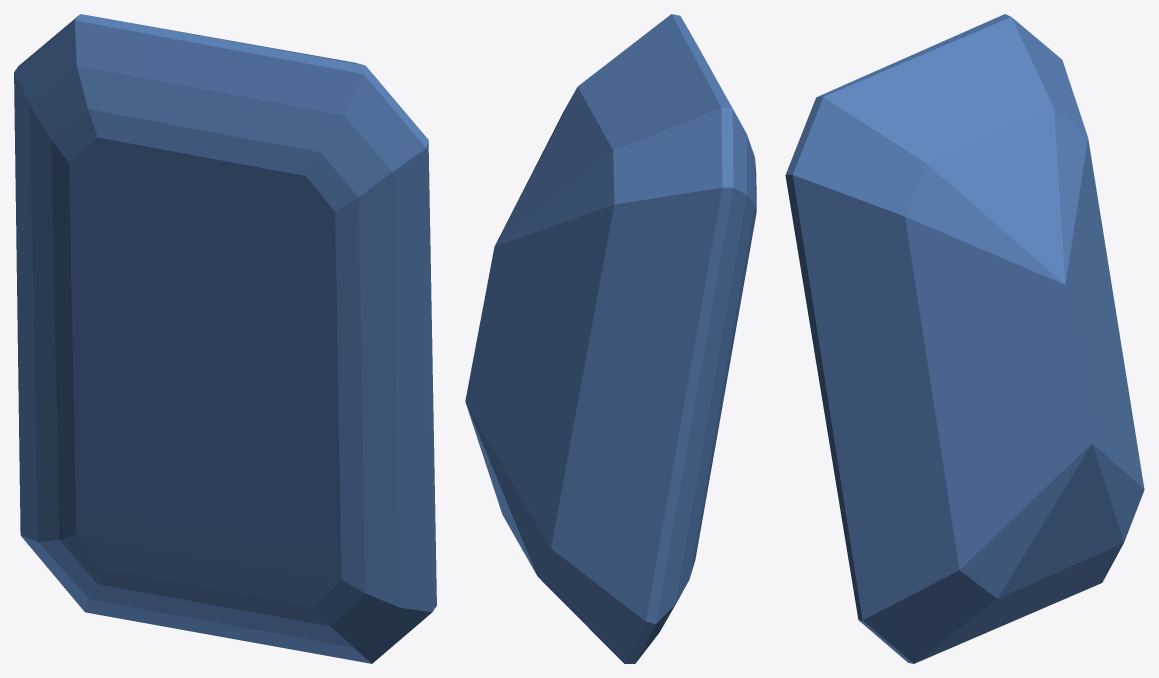
The model's file is TL3_8shapes_Emerald_Classic_Stone.001 2.glb.
3 renders of one model, left to right at view 1: azimuth 30°, elevation 25°; view 2: azimuth 150°, elevation 25°; view 3: azimuth 270°, elevation 25°, orthographic. The views are drawn at different scales.
Visible parts, largest first — view 1: TL3_8shapes_Emerald_Classic_Stone.001; view 2: TL3_8shapes_Emerald_Classic_Stone.001; view 3: TL3_8shapes_Emerald_Classic_Stone.001.
Part boxes in pixels (bbox=[...]): TL3_8shapes_Emerald_Classic_Stone.001: bbox=[14, 14, 436, 663]; TL3_8shapes_Emerald_Classic_Stone.001: bbox=[465, 14, 756, 663]; TL3_8shapes_Emerald_Classic_Stone.001: bbox=[785, 14, 1144, 663].
Bounding box in the file's own units: 0.368 × 0.6911 × 0.4073.
